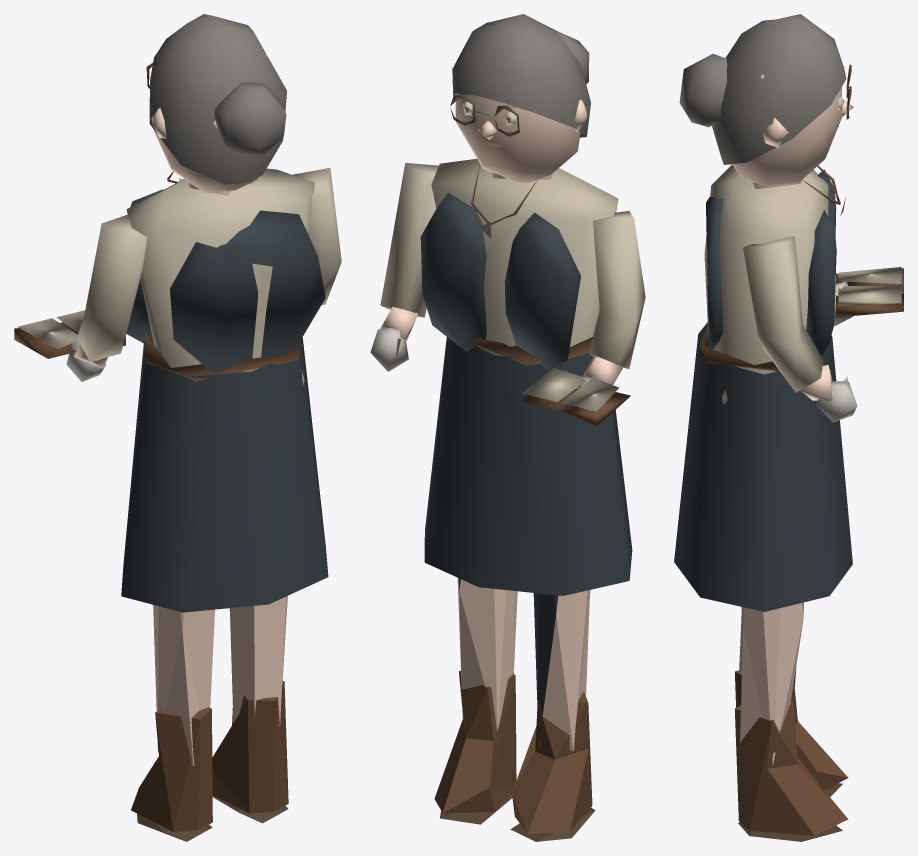
File: SM_NPC_SAGE_BAJA.glb
3 views of the same model, side by side, from view 1: azimuth 30°, elevation 25°; view 2: azimuth 150°, elevation 25°; view 3: azimuth 270°, elevation 25° (orthographic).
Parts seen in each view (by area): view 1: SM_NPC_SAGE_BODY, SM_NPC_SAGE_HEAD, SM_NPC_SAGE_ARMS; view 2: SM_NPC_SAGE_BODY, SM_NPC_SAGE_HEAD, SM_NPC_SAGE_ARMS; view 3: SM_NPC_SAGE_BODY, SM_NPC_SAGE_HEAD, SM_NPC_SAGE_ARMS.
Boxes of the visible parts, x1,y1,x2,y2 form: SM_NPC_SAGE_BODY: (121,168,328,841); SM_NPC_SAGE_HEAD: (146,14,286,192); SM_NPC_SAGE_ARMS: (14,168,341,381); SM_NPC_SAGE_BODY: (420,158,632,841); SM_NPC_SAGE_HEAD: (450,14,590,182); SM_NPC_SAGE_ARMS: (370,163,645,425); SM_NPC_SAGE_BODY: (674,165,852,841); SM_NPC_SAGE_HEAD: (679,14,853,185); SM_NPC_SAGE_ARMS: (743,236,903,422).
Bounding box in the file's own units: 0.5933 × 1.71 × 0.4493.
